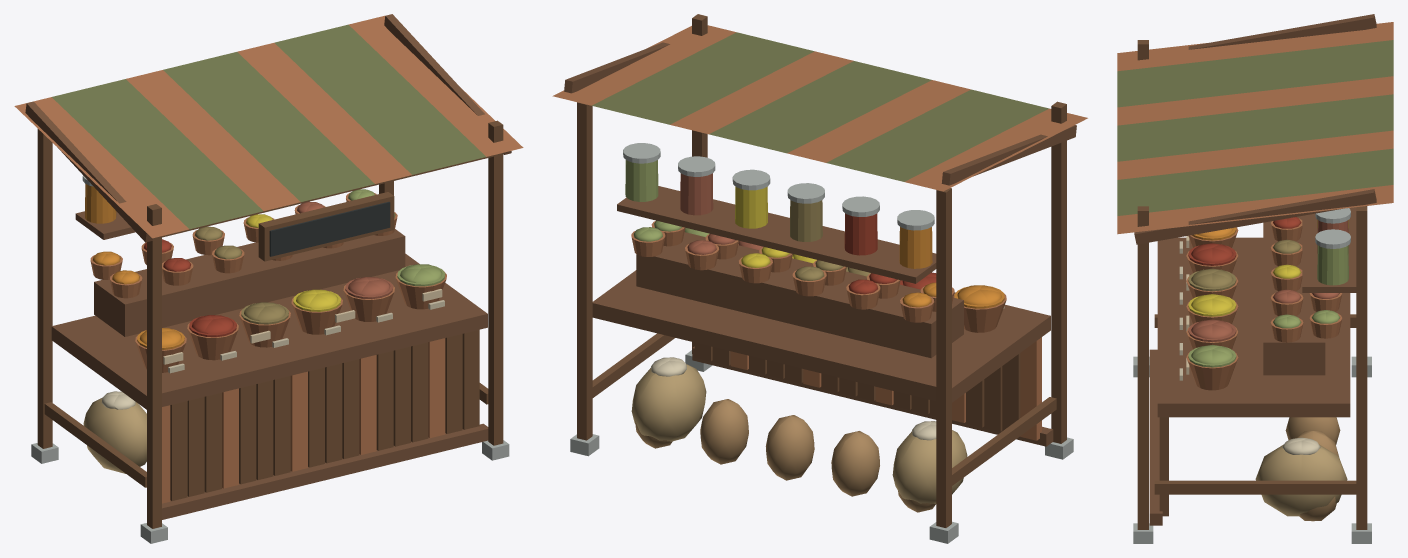
File: spice-near.glb
3 views of the same model, side by side, from view 1: azimuth 30°, elevation 25°; view 2: azimuth 150°, elevation 25°; view 3: azimuth 270°, elevation 25° (orthographic). The views are drawn at different scales.
Visible parts, largest first — view 1: Spice Market Stall; view 2: Spice Market Stall; view 3: Spice Market Stall.
Boxes of the visible parts, left/top/right/bottom form: Spice Market Stall: left=14, top=14, right=523, bottom=543; Spice Market Stall: left=552, top=14, right=1087, bottom=543; Spice Market Stall: left=1117, top=14, right=1393, bottom=543.
Bounding box in the file's own units: 2.98 × 2.74 × 1.92.
